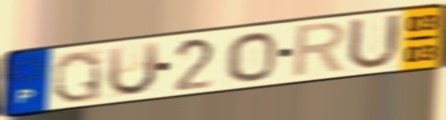2: (171, 36, 220, 93)
O: (224, 30, 279, 83)
Q: (51, 49, 104, 105)
R: (289, 19, 351, 81)
U: (344, 12, 404, 72), (105, 40, 162, 99)
